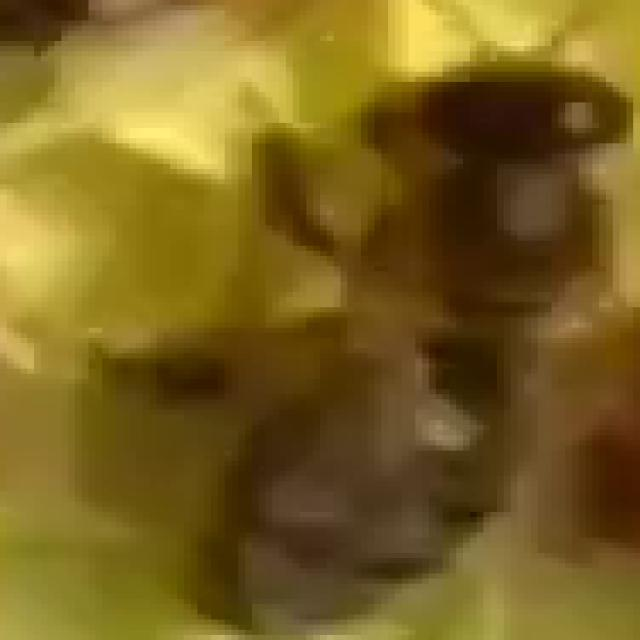honeybee: (182, 45, 610, 596)
